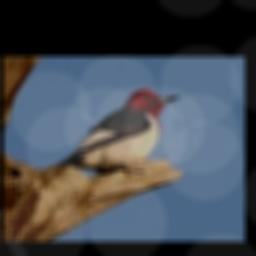Woodpecker: (59, 89, 179, 170)
